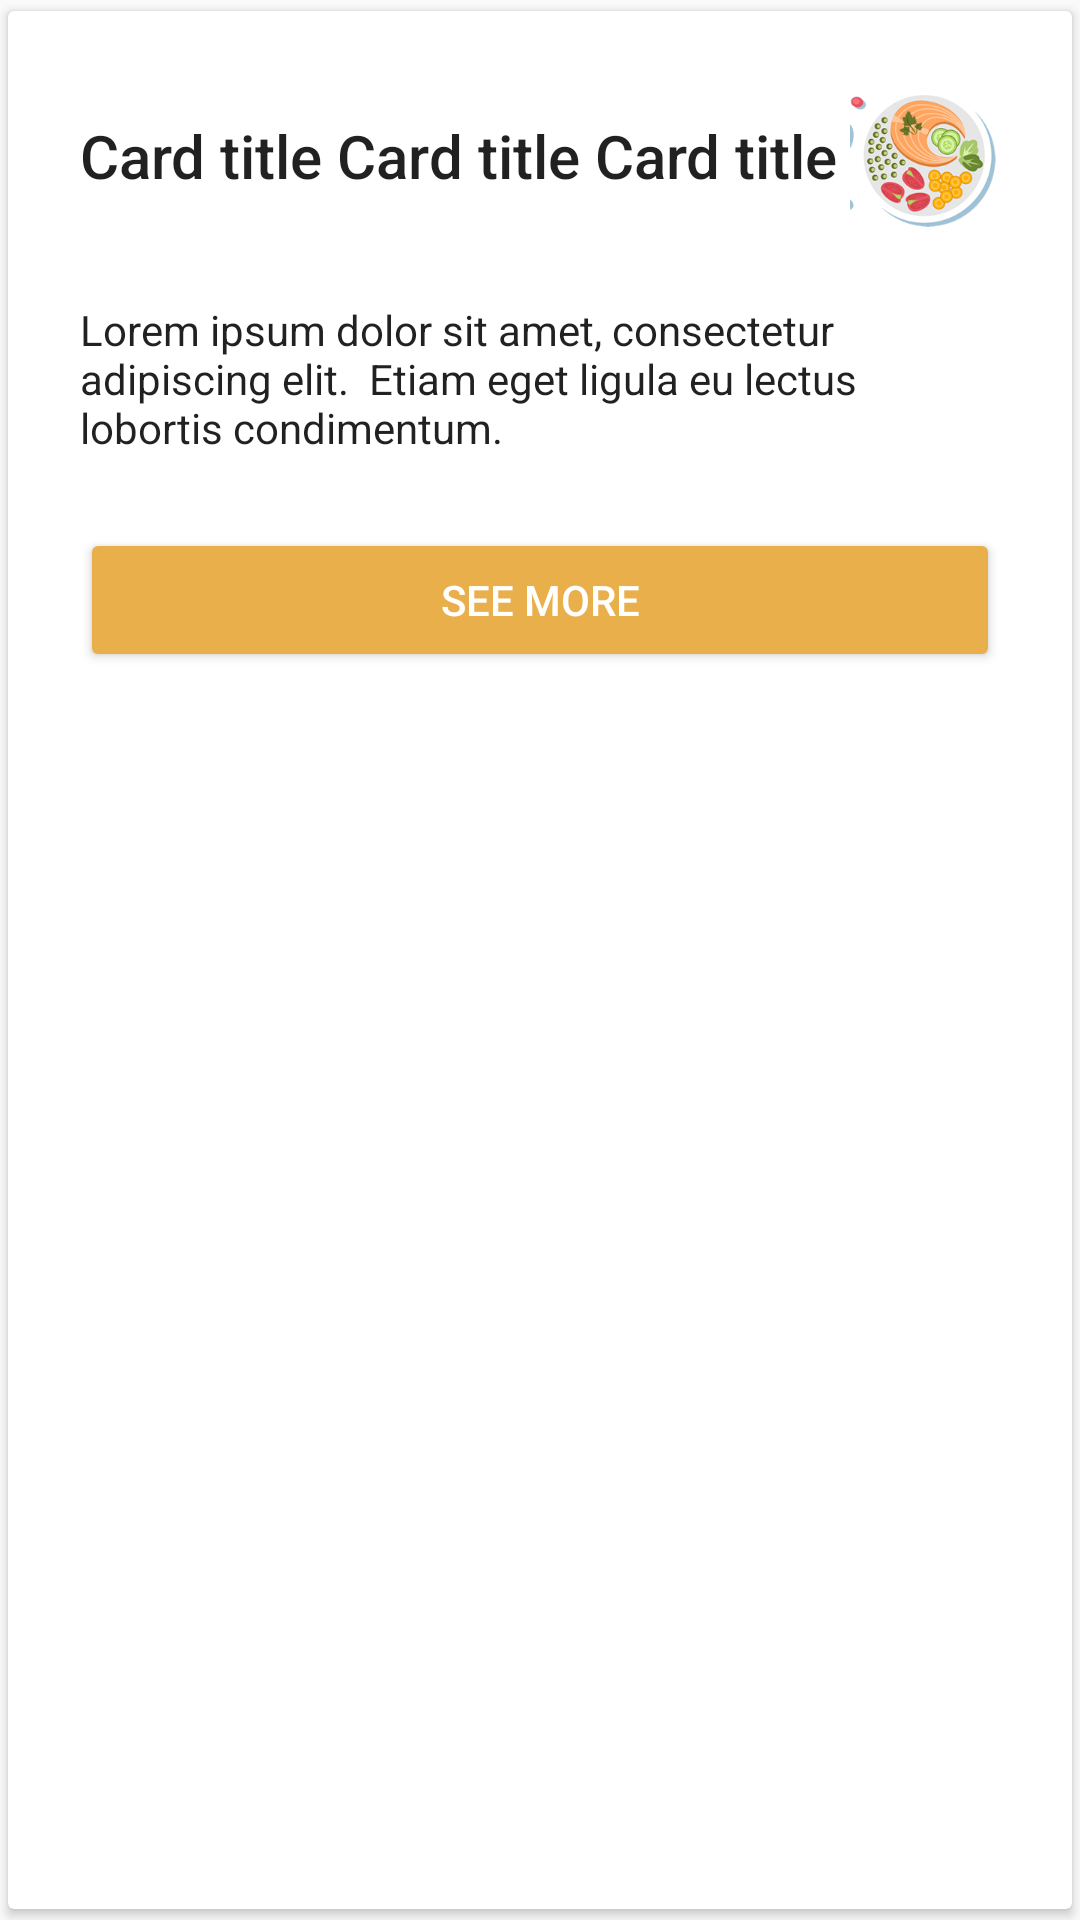

Icon bounding boxes for this 1080 × 1920 phone screenshot, format (x1=x1, y1=y1, x2=x2, y2=y2):
food: (x1=850, y1=96, x2=996, y2=227)
